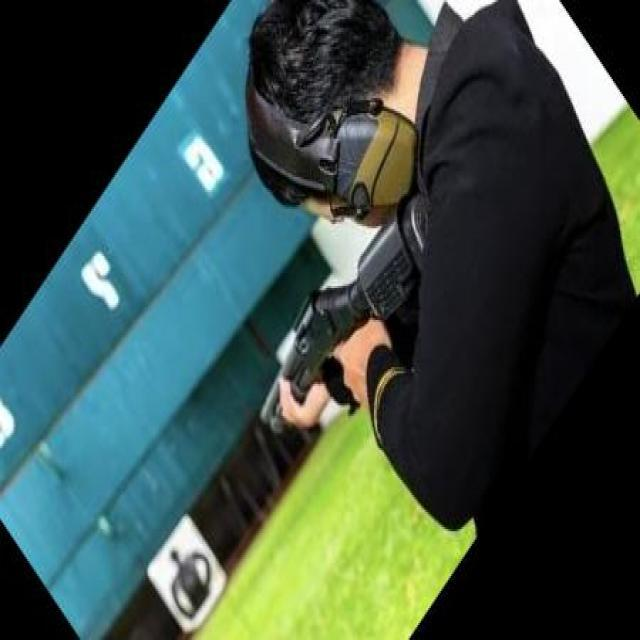weapon: (259, 188, 435, 434)
